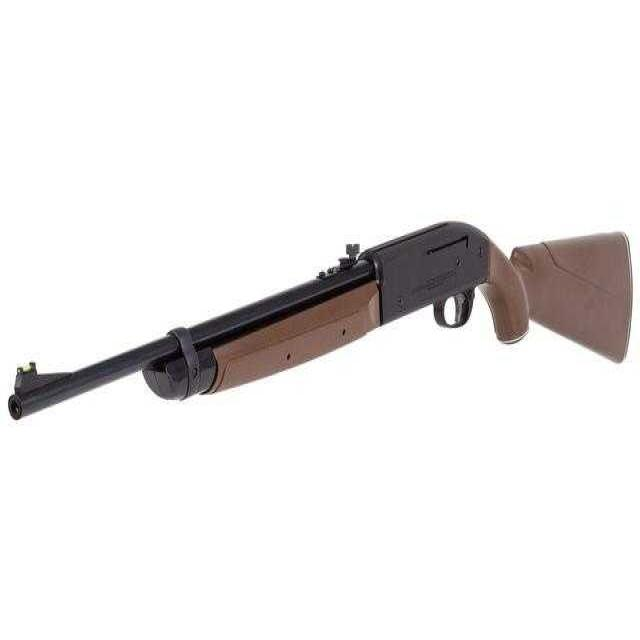heavyweapon: (2, 216, 636, 466)
